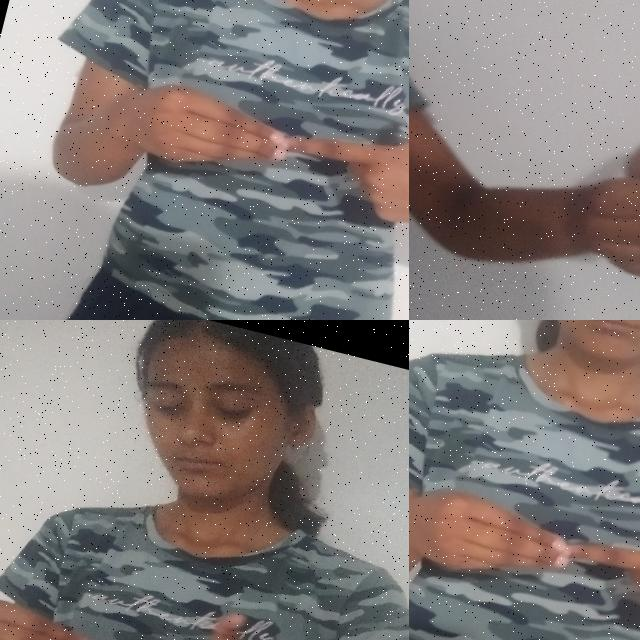Five Fathers: (103, 14, 409, 259), (409, 422, 640, 640), (0, 543, 310, 640)
Thumbs Up: (572, 53, 640, 300)
